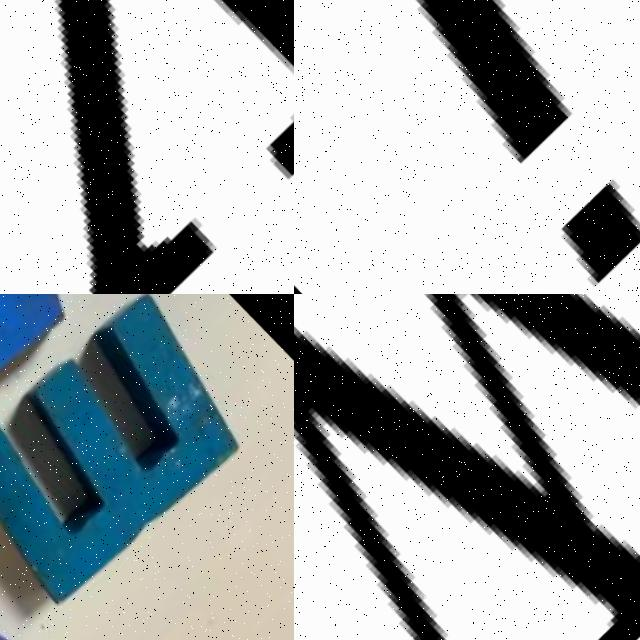I: (294, 0, 640, 290)
M: (0, 294, 270, 624)
P: (0, 294, 124, 487)
V: (0, 0, 294, 294)
W: (294, 294, 640, 640)
